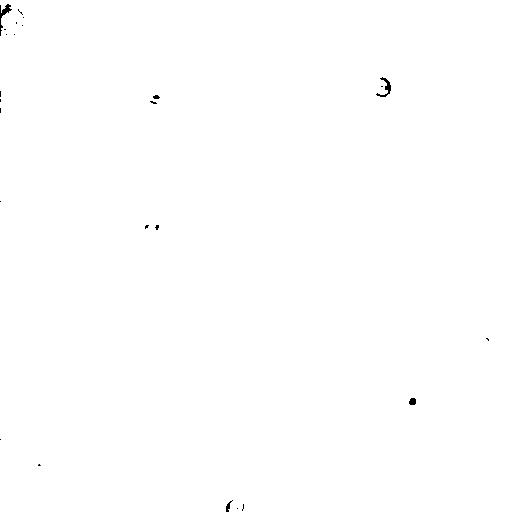micro-algae: (463, 324, 507, 365), (19, 453, 53, 485), (397, 384, 427, 415), (1, 1, 25, 38), (134, 215, 165, 241), (369, 75, 391, 98), (223, 497, 244, 512), (1, 91, 8, 111)
